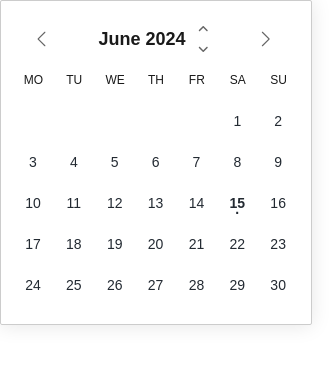
Scenario: Datepicker.svelte — full behaviour › showYears renders year controls and they change year
Click the button named "next-year" at (204, 29), box [194,19,214,39]
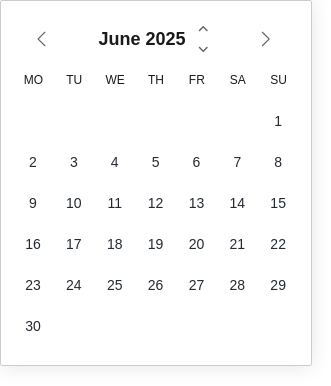
Expected: the text "June 2025" is shown, [98,26,186,52]
Click the button named "prev-year" at (204, 49), box [194,39,214,59]
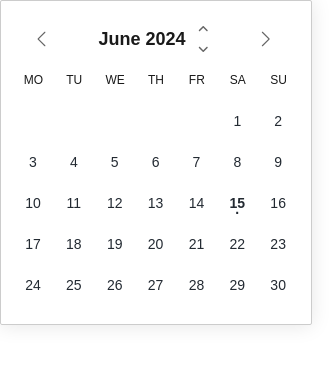
Expected: the text "June 2024" is shown, [98,26,186,52]
